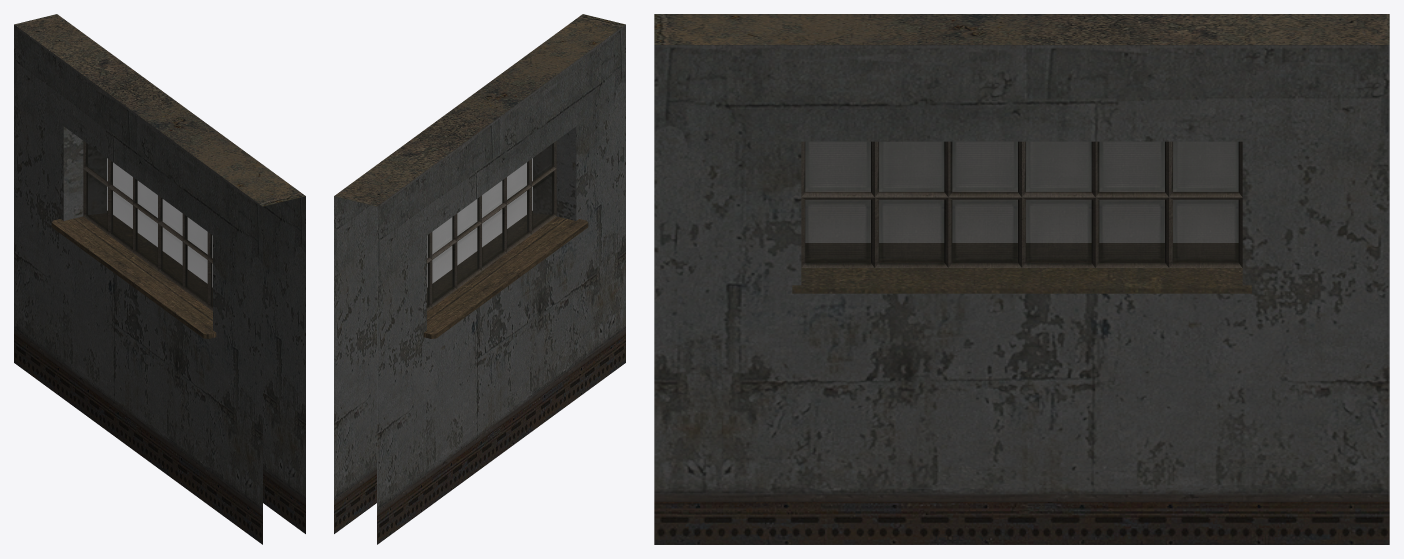
Rendered from window_rtx_1.dae.
3 views of the same model, side by side, from view 1: azimuth 30°, elevation 25°; view 2: azimuth 150°, elevation 25°; view 3: azimuth 270°, elevation 25° (orthographic). The views are drawn at different scales.
Parts seen in each view (by area): view 1: window_rtx_1; view 2: window_rtx_1; view 3: window_rtx_1.
Boxes of the visible parts, x1,y1,x2,y2 form: window_rtx_1: [14, 14, 305, 544]; window_rtx_1: [334, 14, 625, 544]; window_rtx_1: [654, 14, 1389, 544].
Bounding box in the file's own units: 0.545 × 4 × 3.
6 materials, 6 textured.
